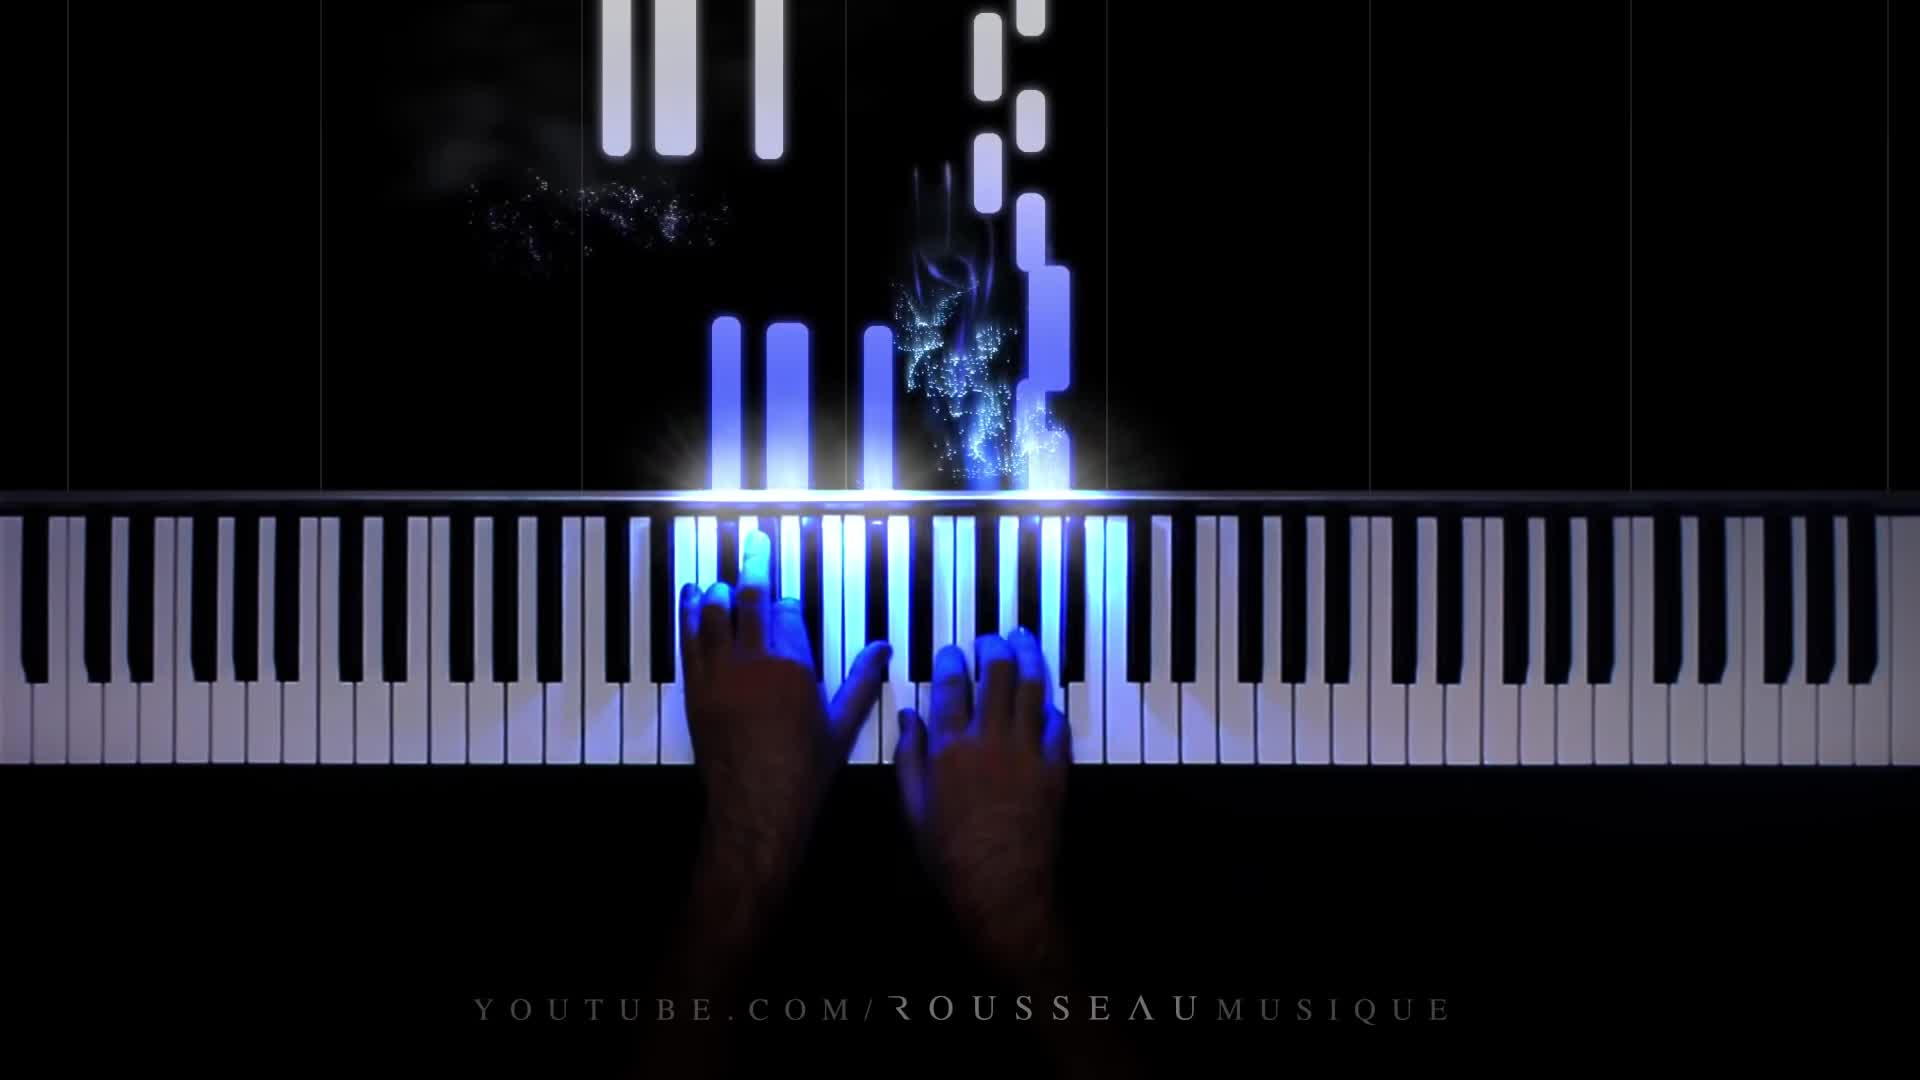left: (676, 525, 894, 822)
right: (897, 622, 1085, 918)
